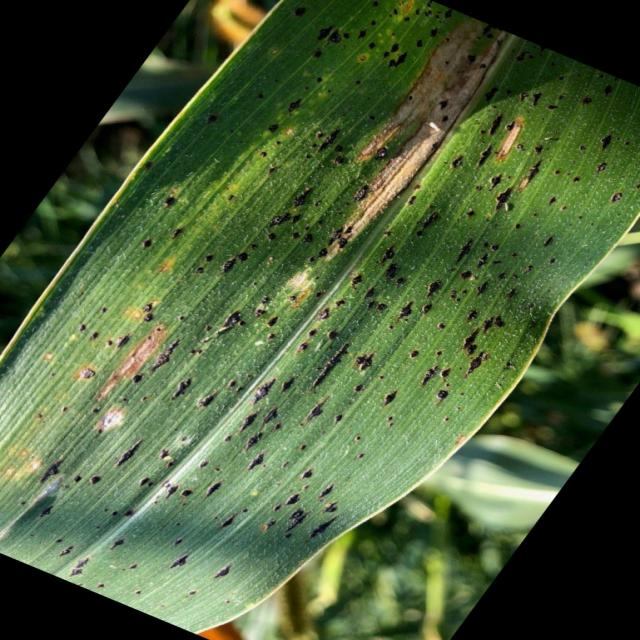Tar_Spot: (76, 41, 563, 602)
